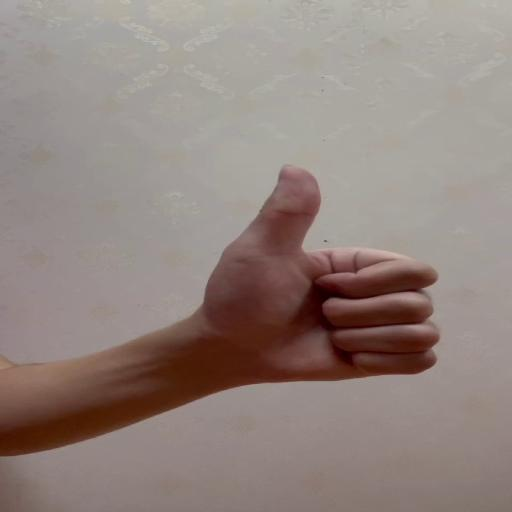thumbs_up: (199, 162, 444, 385)
